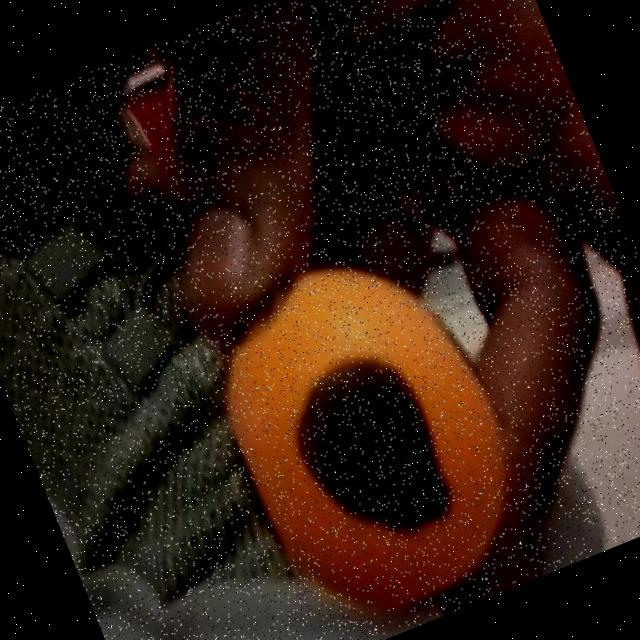ping-pong-ball: (174, 218, 555, 640)
